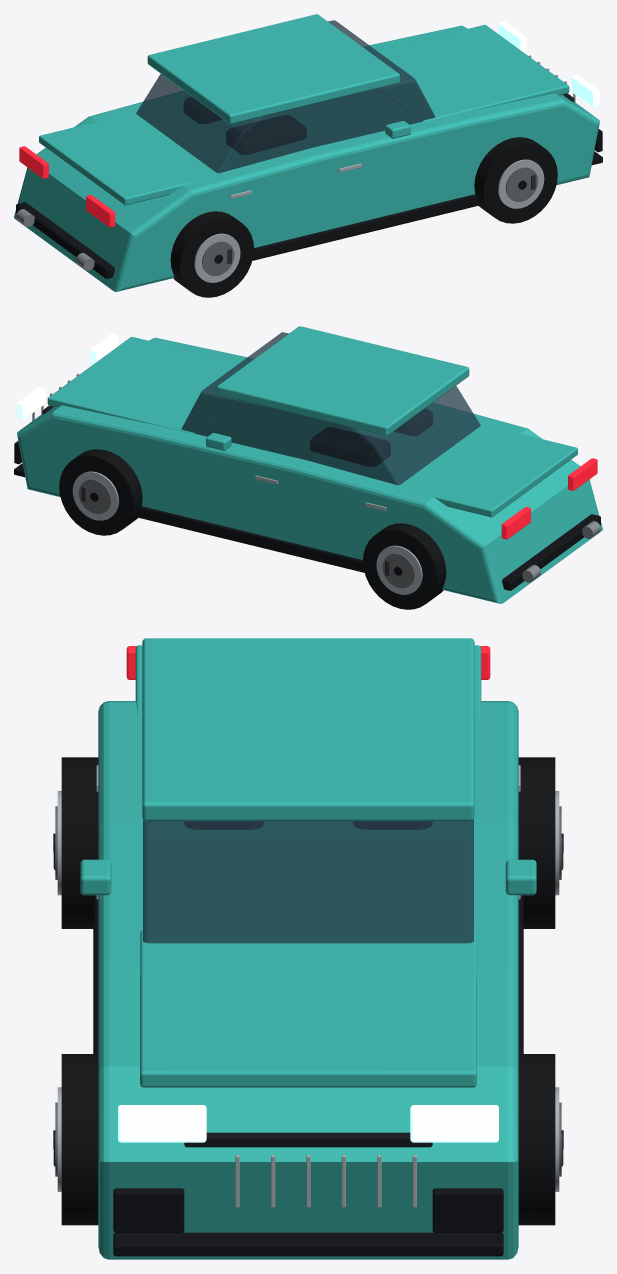
File: chevy_prizm.glb
3 views of the same model, one above another, from view 1: azimuth 30°, elevation 25°; view 2: azimuth 150°, elevation 25°; view 3: azimuth 270°, elevation 25° (orthographic). The views are drawn at different scales.
Visible parts, largest first — view 1: sculpted_body, roof, glasshouse, hood_center, rear_deck, rear_right_wheel_tire, front_right_wheel_tire, side_skirt_1, seat_1, rear_diffuser, front_right_wheel_rim, rear_right_wheel_rim (+7 smaller); view 2: sculpted_body, roof, glasshouse, hood_center, rear_deck, rear_left_wheel_tire, front_left_wheel_tire, side_skirt_-1, seat_-1, rear_diffuser, front_left_wheel_rim, rear_left_wheel_rim (+7 smaller); view 3: sculpted_body, roof, hood_center, glasshouse, front_splitter, front_left_wheel_tire, front_right_wheel_tire, rear_left_wheel_tire, rear_right_wheel_tire, front_grille, headlight_left, headlight_right (+7 smaller).
Boxes of the visible parts, bbox=[...] form: sculpted_body: bbox=[14, 25, 599, 291]; roof: bbox=[147, 14, 399, 124]; glasshouse: bbox=[136, 20, 435, 173]; hood_center: bbox=[372, 25, 569, 121]; rear_deck: bbox=[39, 117, 200, 205]; rear_right_wheel_tire: bbox=[170, 211, 253, 297]; front_right_wheel_tire: bbox=[474, 137, 557, 223]; side_skirt_1: bbox=[252, 194, 480, 260]; seat_1: bbox=[226, 115, 306, 154]; rear_diffuser: bbox=[16, 202, 114, 278]; front_right_wheel_rim: bbox=[498, 159, 544, 208]; rear_right_wheel_rim: bbox=[194, 233, 240, 282]; sculpted_body: bbox=[17, 337, 602, 603]; roof: bbox=[217, 326, 469, 436]; glasshouse: bbox=[181, 332, 480, 485]; hood_center: bbox=[47, 337, 244, 433]; rear_deck: bbox=[416, 429, 577, 517]; rear_left_wheel_tire: bbox=[363, 523, 446, 609]; front_left_wheel_tire: bbox=[59, 449, 142, 535]; side_skirt_-1: bbox=[136, 506, 364, 572]; seat_-1: bbox=[310, 427, 390, 466]; rear_diffuser: bbox=[502, 514, 600, 590]; front_left_wheel_rim: bbox=[72, 471, 118, 520]; rear_left_wheel_rim: bbox=[376, 545, 422, 594]; sculpted_body: bbox=[98, 701, 518, 1259]; roof: bbox=[142, 638, 474, 821]; hood_center: bbox=[140, 930, 476, 1087]; glasshouse: bbox=[143, 820, 473, 943]; front_splitter: bbox=[113, 1232, 503, 1256]; front_left_wheel_tire: bbox=[518, 1054, 555, 1225]; front_right_wheel_tire: bbox=[61, 1054, 98, 1225]; rear_left_wheel_tire: bbox=[518, 757, 555, 928]; rear_right_wheel_tire: bbox=[61, 757, 98, 928]; front_grille: bbox=[184, 1132, 432, 1147]; headlight_left: bbox=[410, 1105, 498, 1142]; headlight_right: bbox=[118, 1105, 206, 1142].
Bounding box in the file's own units: 4.92 × 1.47 × 2.14.
